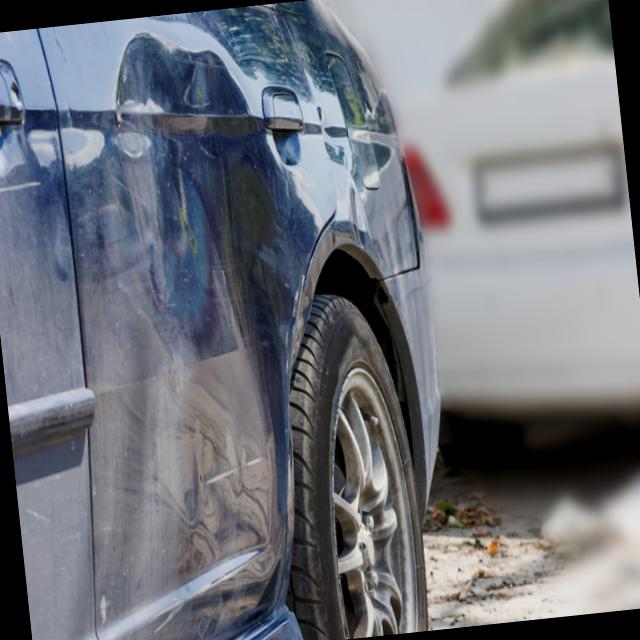Cabossage: (97, 4, 341, 489), (170, 464, 298, 640)
Rayure: (0, 165, 52, 205)
